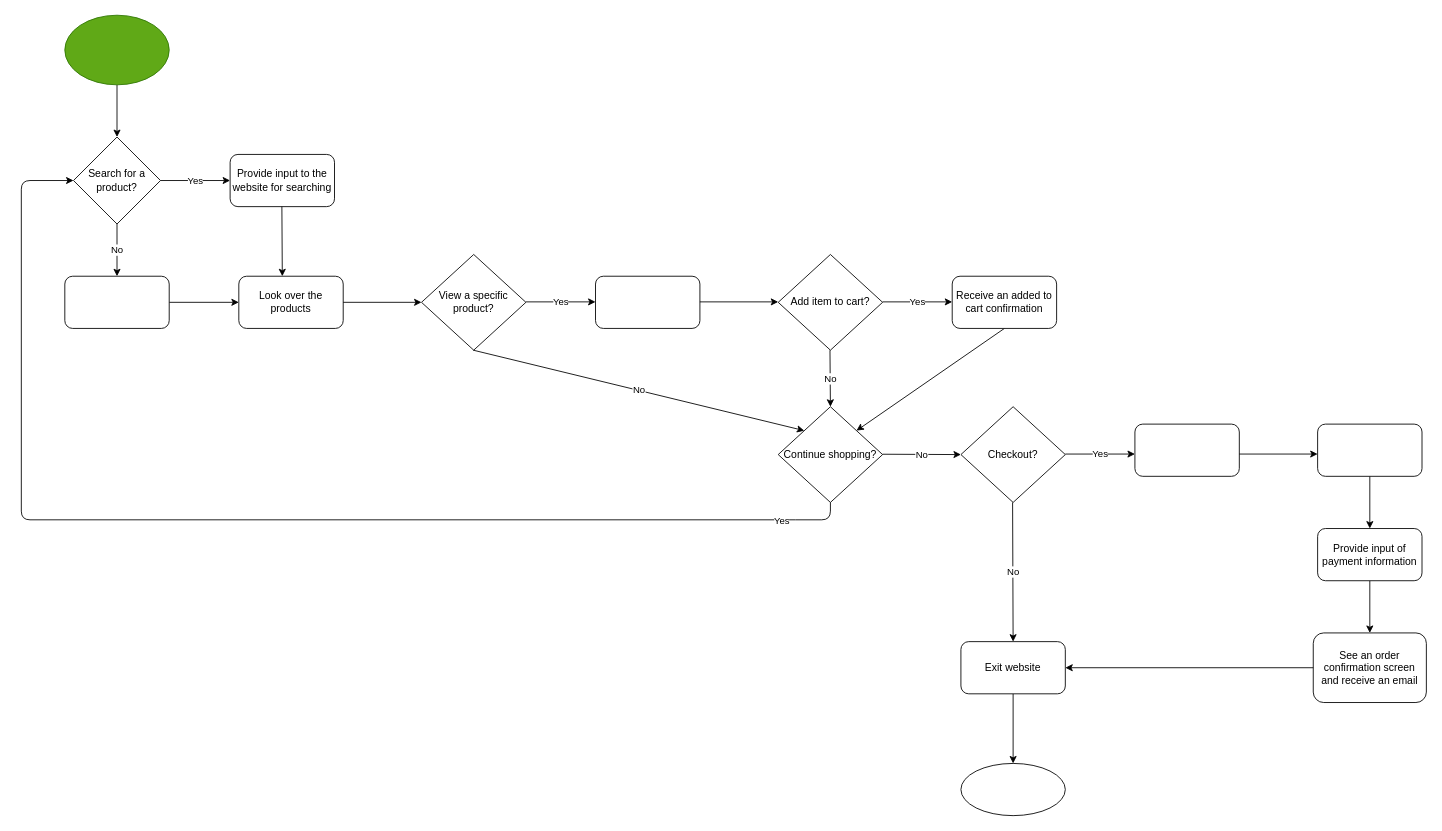
Image size: 1442x831. Some labels were removed from this diagram. The shapes that lost their labels are listed below. From the top down, each one's centre as x and y in pixels, then its label:
At point 116,49: "Start".
At point 116,301: "Explore the products on home page".
At point 647,301: "Product’s webpage opens".
At point 1186,449: "Reach the View Cart screen".
At point 1369,449: "Go to View Payment screen".
At point 1012,789: "End".
